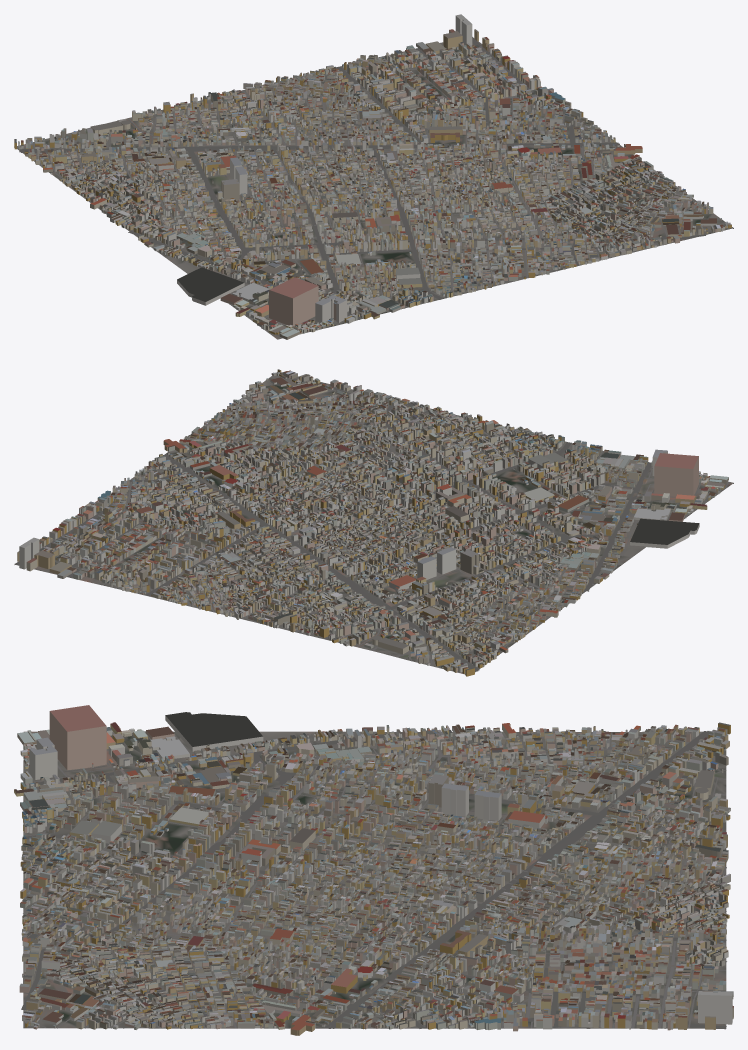
3 renders of one model, top to bottom at view 1: azimuth 30°, elevation 25°; view 2: azimuth 150°, elevation 25°; view 3: azimuth 270°, elevation 25°, orthographic. The views are drawn at different scales.
Visible parts, largest first — view 1: buildings, ground, roads; view 2: buildings, ground, roads; view 3: buildings, ground, roads.
Boxes of the visible parts, <box> form: buildings: <box>14,14,731,339</box>; ground: <box>14,41,733,339</box>; roads: <box>19,37,725,338</box>; buildings: <box>17,369,728,676</box>; ground: <box>15,372,733,674</box>; roads: <box>14,376,728,671</box>; buildings: <box>14,705,733,1035</box>; ground: <box>23,731,726,1028</box>; roads: <box>21,730,726,1029</box>.
Bounding box in the file's own units: 1506 × 86.43 × 1435.
